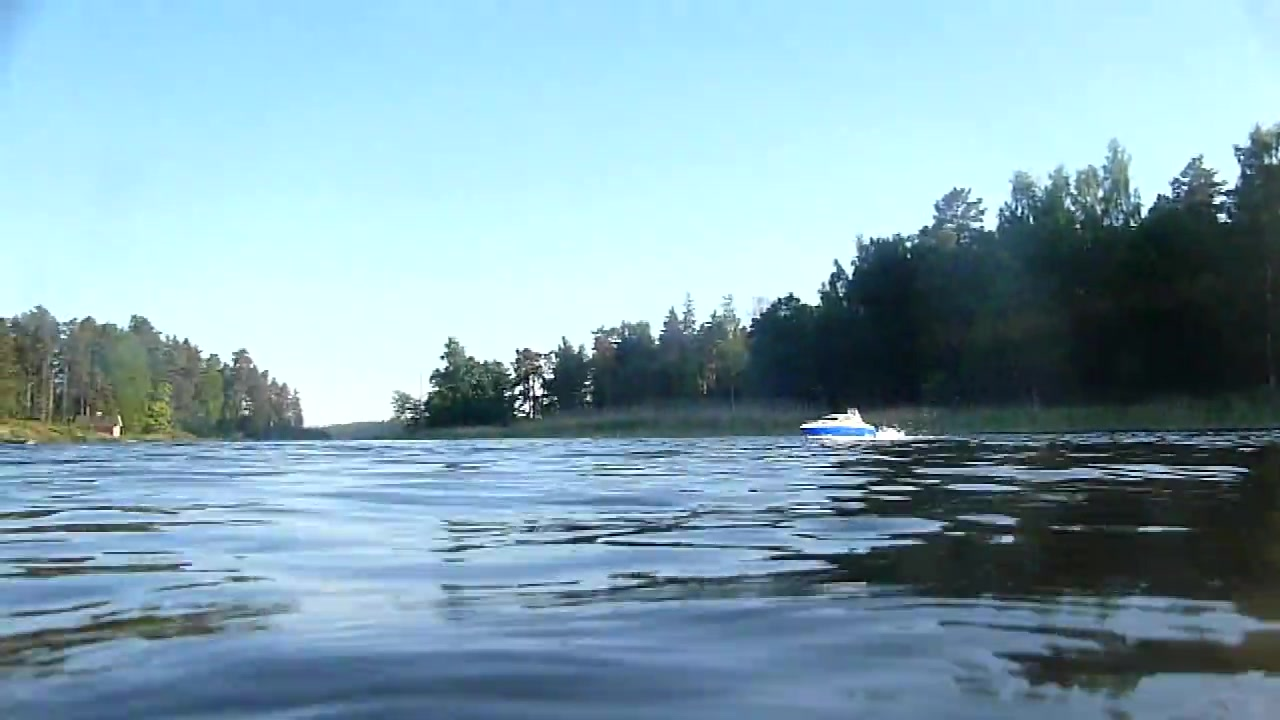boat: (799, 405, 879, 448)
